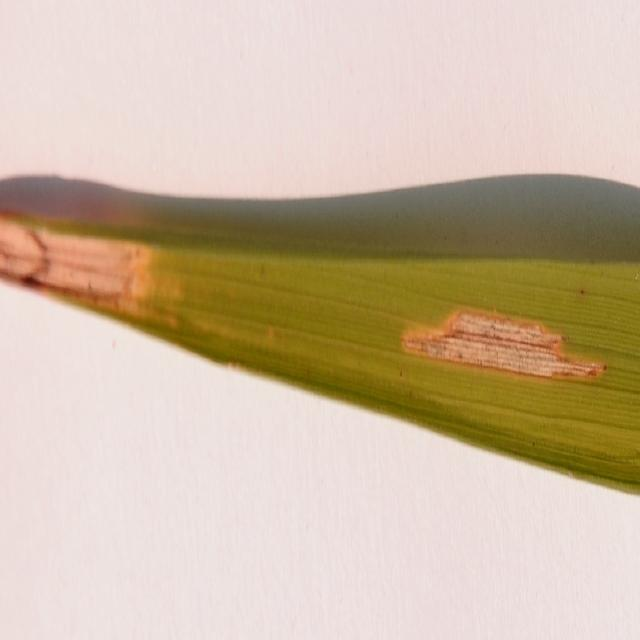Unhealthy: (0, 218, 183, 319), (399, 309, 607, 379)
